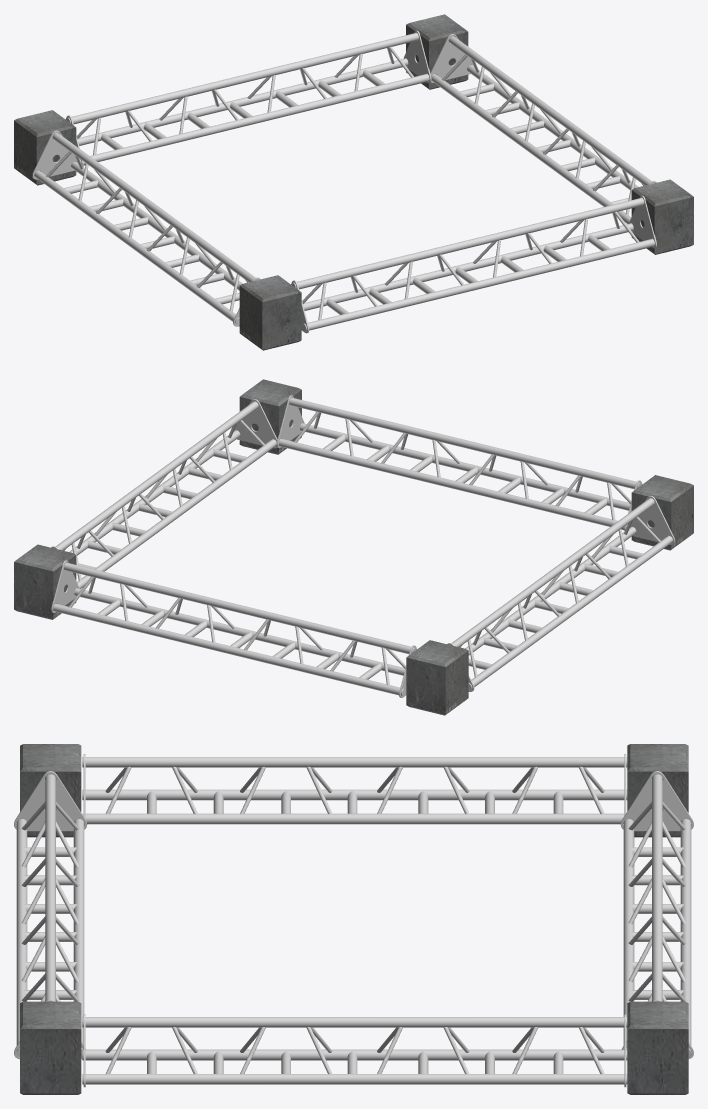
File: CheckPoint.fbx
The picture shows the model from 3 angles, top to bottom: view 1: azimuth 30°, elevation 25°; view 2: azimuth 150°, elevation 25°; view 3: azimuth 270°, elevation 25°; orthographic projection. The views are drawn at different scales.
Visible parts, largest first — view 1: pasted__const_unit_56_Material #2_0 (×2), gj, pasted__pasted__const_unit_56_Material #2_0, pasted__pCube1 (×2), pCube1, pasted__pasted__pCube1; view 2: pasted__const_unit_56_Material #2_0 (×2), gj, pasted__pasted__const_unit_56_Material #2_0, pasted__pCube1 (×2), pasted__pasted__pCube1, pCube1; view 3: pasted__const_unit_56_Material #2_0 (×2), pasted__pasted__const_unit_56_Material #2_0, gj, pasted__pCube1 (×2), pCube1, pasted__pasted__pCube1.
Boxes of the visible parts, left/top/right/bottom form: pasted__const_unit_56_Material #2_0 (×2): left=65, top=30, right=656, bottom=223; gj: left=291, top=195, right=656, bottom=333; pasted__pasted__const_unit_56_Material #2_0: left=32, top=130, right=260, bottom=326; pasted__pCube1 (×2): left=239, top=14, right=468, bottom=350; pCube1: left=631, top=179, right=693, bottom=254; pasted__pasted__pCube1: left=14, top=110, right=76, bottom=185; pasted__const_unit_56_Material #2_0 (×2): left=51, top=399, right=416, bottom=697; gj: left=276, top=395, right=642, bottom=531; pasted__pasted__const_unit_56_Material #2_0: left=447, top=496, right=675, bottom=691; pasted__pCube1 (×2): left=14, top=475, right=693, bottom=619; pasted__pasted__pCube1: left=406, top=640, right=468, bottom=715; pCube1: left=239, top=379, right=301, bottom=454; pasted__const_unit_56_Material #2_0 (×2): left=82, top=771, right=693, bottom=1087; pasted__pasted__const_unit_56_Material #2_0: left=82, top=754, right=627, bottom=824; gj: left=14, top=771, right=87, bottom=1059; pasted__pCube1 (×2): left=20, top=744, right=688, bottom=1094; pCube1: left=20, top=1001, right=81, bottom=1094; pasted__pasted__pCube1: left=627, top=744, right=688, bottom=837.
Bounding box in the file's own units: 26.57 × 2.99 × 26.23.
2 materials, 1 textured.
